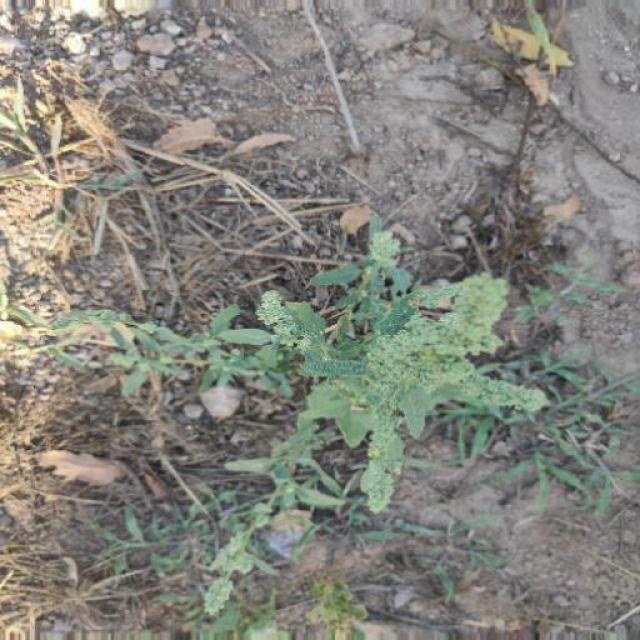weed: (80, 235, 560, 575)
